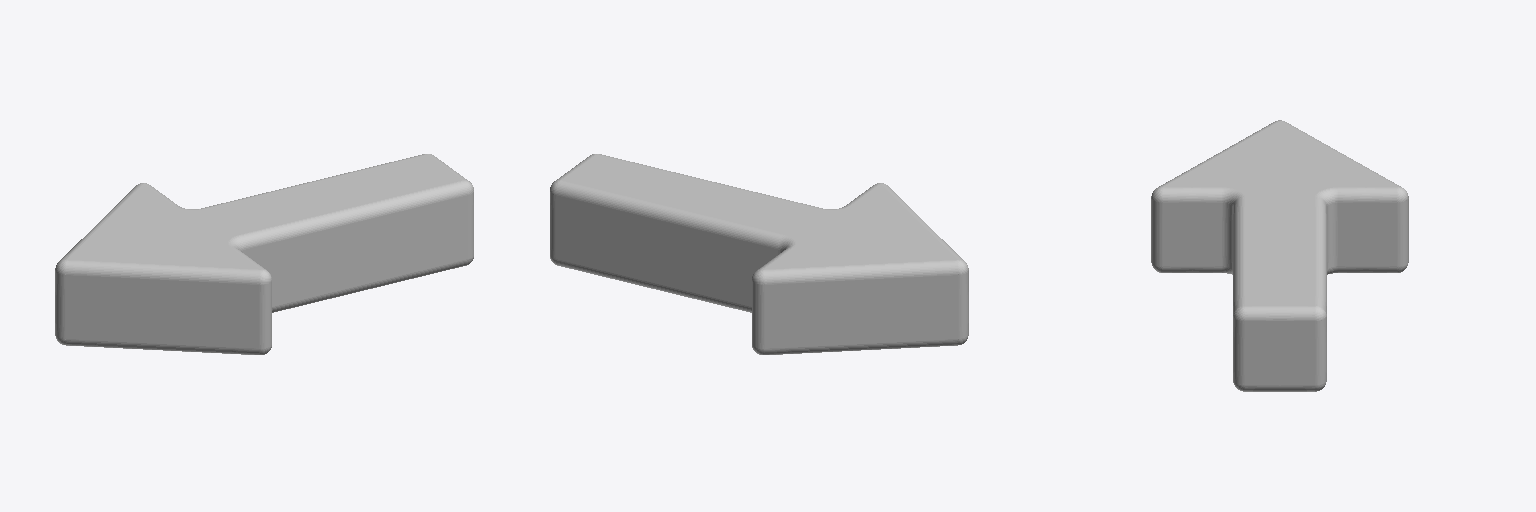
The model's file is GuideArrow.obj.
3 renders of one model, left to right at view 1: azimuth 30°, elevation 25°; view 2: azimuth 150°, elevation 25°; view 3: azimuth 270°, elevation 25°, orthographic.
Parts seen in each view (by area): view 1: Solid1; view 2: Solid1; view 3: Solid1.
Part boxes in pixels (bbox=[...]): Solid1: bbox=[55, 154, 473, 354]; Solid1: bbox=[550, 154, 968, 354]; Solid1: bbox=[1151, 120, 1408, 391].
Size of the model in its own units: 0.1249 by 0.0254 by 0.0698.